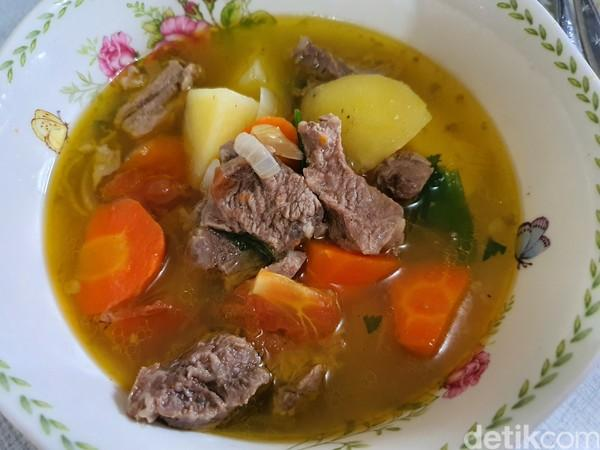buah_sayur_vitA: (367, 263, 461, 352), (86, 209, 160, 303)
daging: (150, 346, 248, 425), (213, 174, 306, 240), (332, 168, 408, 240)
